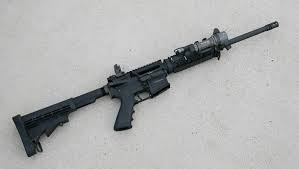gun: (13, 28, 229, 159)
